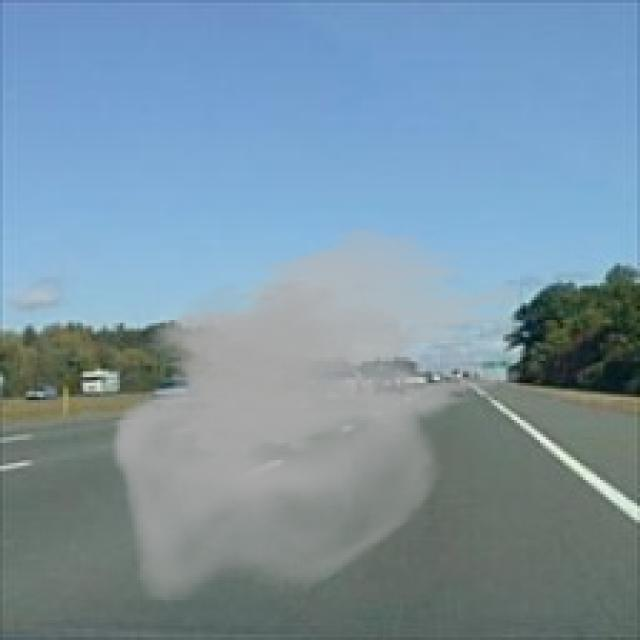Smoke: (111, 223, 523, 603)
